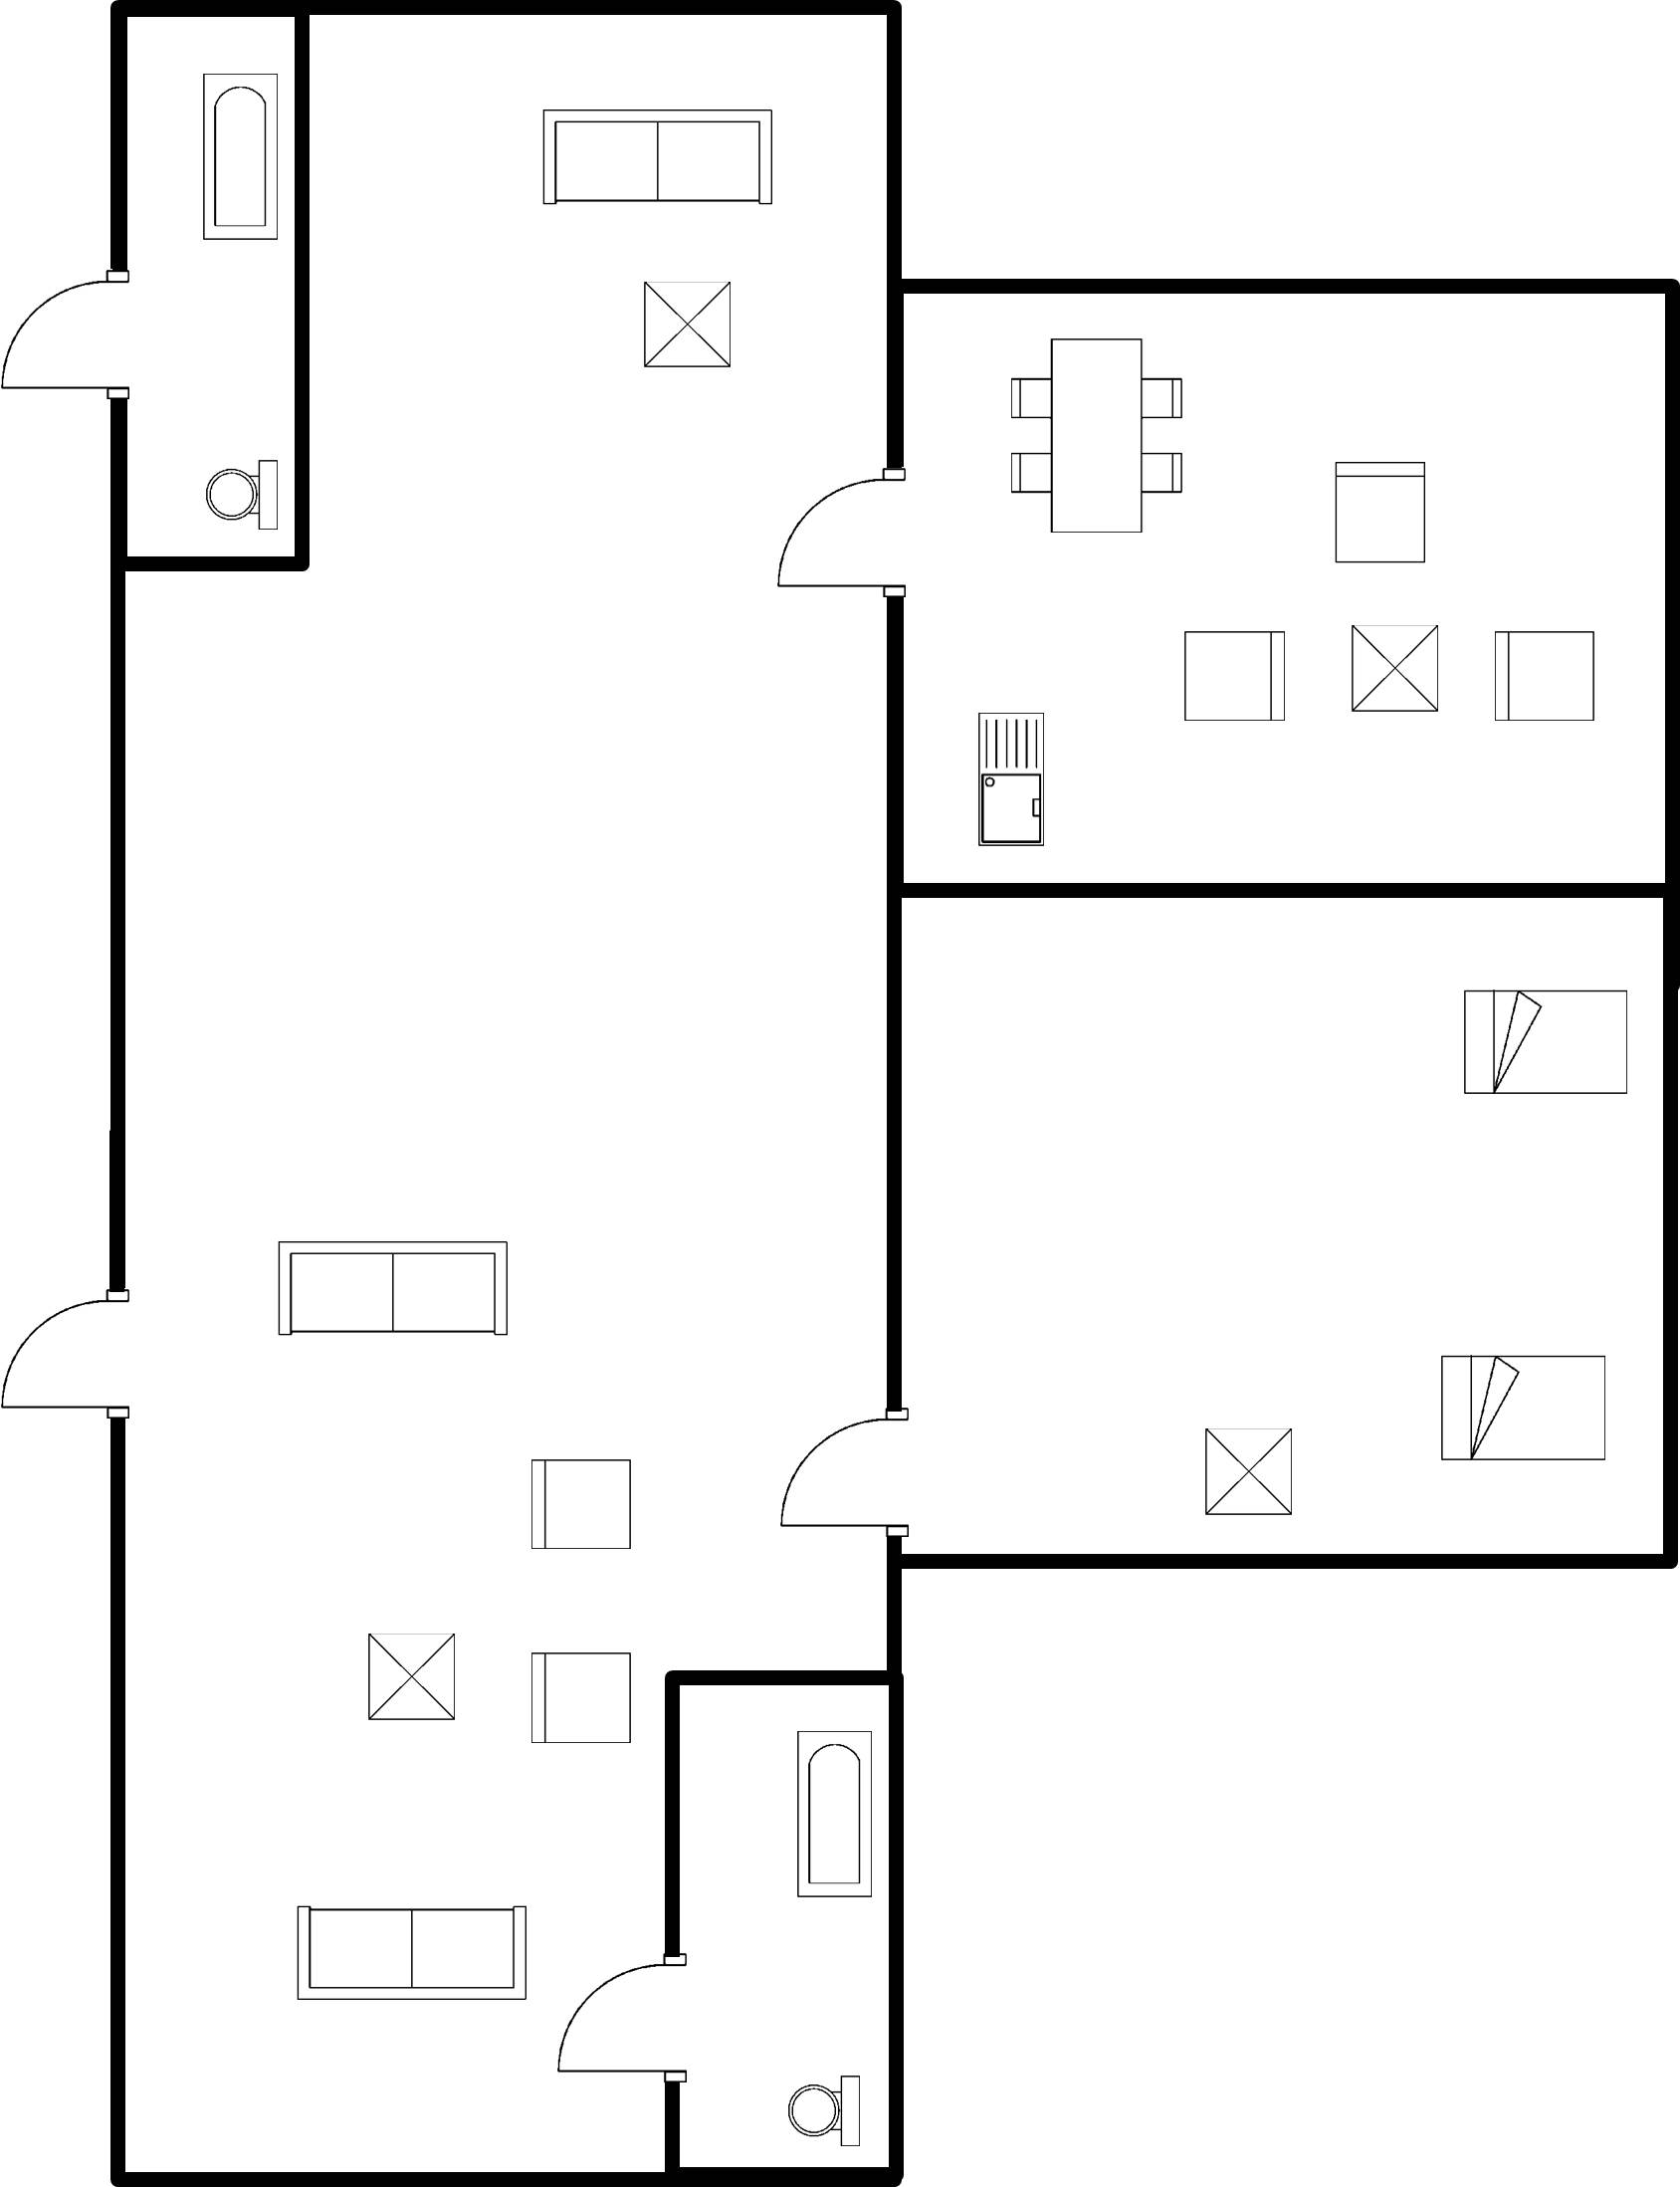bed: (1447, 970, 1635, 1112), (1427, 1344, 1626, 1476)
coffee_table: (1187, 1413, 1311, 1530), (627, 266, 745, 383), (356, 1623, 469, 1738), (1337, 621, 1447, 727)
dining_table: (999, 321, 1195, 547)
large_sink: (771, 2067, 880, 2155), (192, 448, 292, 541)
large_sofa: (523, 93, 782, 223), (281, 1893, 544, 2017), (264, 1224, 521, 1348)
sink: (962, 699, 1060, 861)
small_sofa: (1475, 610, 1609, 736), (1315, 452, 1440, 575), (517, 1443, 644, 1565), (517, 1639, 646, 1755), (1174, 623, 1298, 736)
tub: (181, 56, 290, 253), (782, 1711, 880, 1913)
